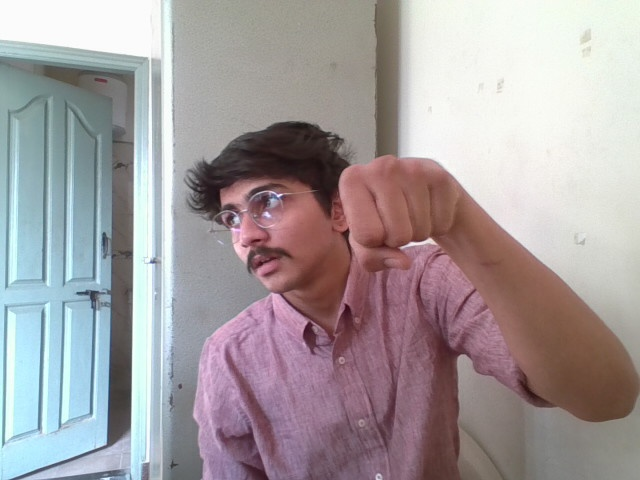yes: (333, 146, 473, 275)
